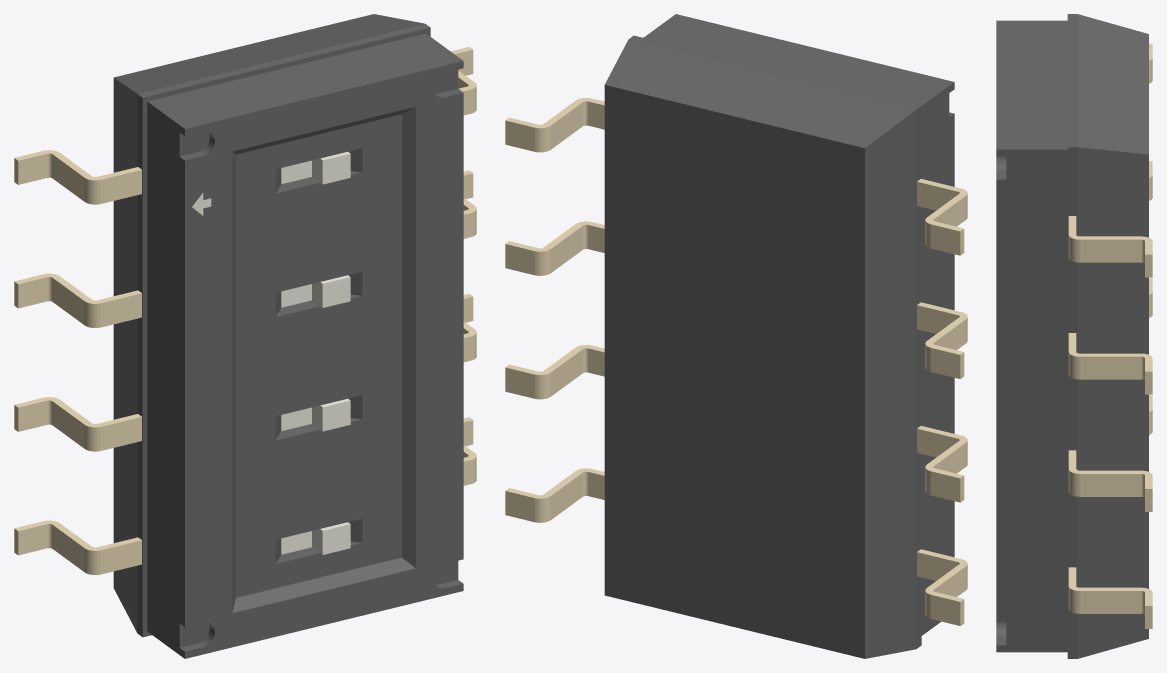
The model's file is SW_DIP_SPSTx04_Slide_Omron_A6S-410x_W8.9mm_P2.54mm.glb.
3 views of the same model, side by side, from view 1: azimuth 30°, elevation 25°; view 2: azimuth 150°, elevation 25°; view 3: azimuth 270°, elevation 25° (orthographic). The views are drawn at different scales.
Parts seen in each view (by area): view 1: Shape_IndexedFaceSet.147, Shape_IndexedFaceSet.084, Shape_IndexedFaceSet.091, Shape_IndexedFaceSet.082, Shape_IndexedFaceSet.005, Shape_IndexedFaceSet.145, Shape_IndexedFaceSet.002, Shape_IndexedFaceSet.065, Shape_IndexedFaceSet.025, Shape_IndexedFaceSet.143, Shape_IndexedFaceSet.144, Shape_IndexedFaceSet.006 (+22 smaller); view 2: Shape_IndexedFaceSet.001, Shape_IndexedFaceSet.005, Shape_IndexedFaceSet.002, Shape_IndexedFaceSet.091, Shape_IndexedFaceSet.082, Shape_IndexedFaceSet.025, Shape_IndexedFaceSet.006, Shape_IndexedFaceSet.049, Shape_IndexedFaceSet.030, Shape_IndexedFaceSet.040, Shape_IndexedFaceSet.058, Shape_IndexedFaceSet.073 (+13 smaller); view 3: Shape_IndexedFaceSet.028, Shape_IndexedFaceSet, Shape_IndexedFaceSet.082, Shape_IndexedFaceSet.002, Shape_IndexedFaceSet.003, Shape_IndexedFaceSet.051, Shape_IndexedFaceSet.060, Shape_IndexedFaceSet.006, Shape_IndexedFaceSet.033, Shape_IndexedFaceSet.042, Shape_IndexedFaceSet.016, Shape_IndexedFaceSet.020 (+6 smaller).
Boxes of the visible parts, x1,y1,x2,y2 form: Shape_IndexedFaceSet.147: (236,114,401,597); Shape_IndexedFaceSet.084: (185,61,463,658); Shape_IndexedFaceSet.091: (147,102,184,658); Shape_IndexedFaceSet.082: (147,33,462,128); Shape_IndexedFaceSet.005: (113,78,137,632); Shape_IndexedFaceSet.145: (402,107,415,567); Shape_IndexedFaceSet.002: (114,14,424,93); Shape_IndexedFaceSet.065: (142,98,147,636); Shape_IndexedFaceSet.025: (137,94,142,636); Shape_IndexedFaceSet.143: (232,557,415,612); Shape_IndexedFaceSet.144: (232,152,235,611); Shape_IndexedFaceSet.006: (138,23,430,97); Shape_IndexedFaceSet.001: (604,85,864,658); Shape_IndexedFaceSet.005: (865,110,916,658); Shape_IndexedFaceSet.002: (605,39,915,147); Shape_IndexedFaceSet.091: (921,82,954,635); Shape_IndexedFaceSet.082: (643,14,953,105); Shape_IndexedFaceSet.025: (916,106,921,648); Shape_IndexedFaceSet.006: (629,35,921,109); Shape_IndexedFaceSet.049: (550,102,582,149); Shape_IndexedFaceSet.030: (550,473,582,519); Shape_IndexedFaceSet.040: (550,349,582,396); Shape_IndexedFaceSet.058: (550,226,582,272); Shape_IndexedFaceSet.073: (917,305,957,333); Shape_IndexedFaceSet.028: (996,149,1067,652); Shape_IndexedFaceSet: (1077,147,1148,658); Shape_IndexedFaceSet.082: (996,20,1067,149); Shape_IndexedFaceSet.002: (1077,14,1148,154); Shape_IndexedFaceSet.003: (1067,147,1077,658); Shape_IndexedFaceSet.051: (1080,239,1141,262); Shape_IndexedFaceSet.060: (1080,356,1141,379); Shape_IndexedFaceSet.006: (1067,14,1077,147); Shape_IndexedFaceSet.033: (1080,591,1141,613); Shape_IndexedFaceSet.042: (1080,474,1141,496); Shape_IndexedFaceSet.016: (1068,450,1152,488); Shape_IndexedFaceSet.020: (1068,216,1152,254).
Size of the model in its own units: 3.86 by 4.37 by 1.21.
